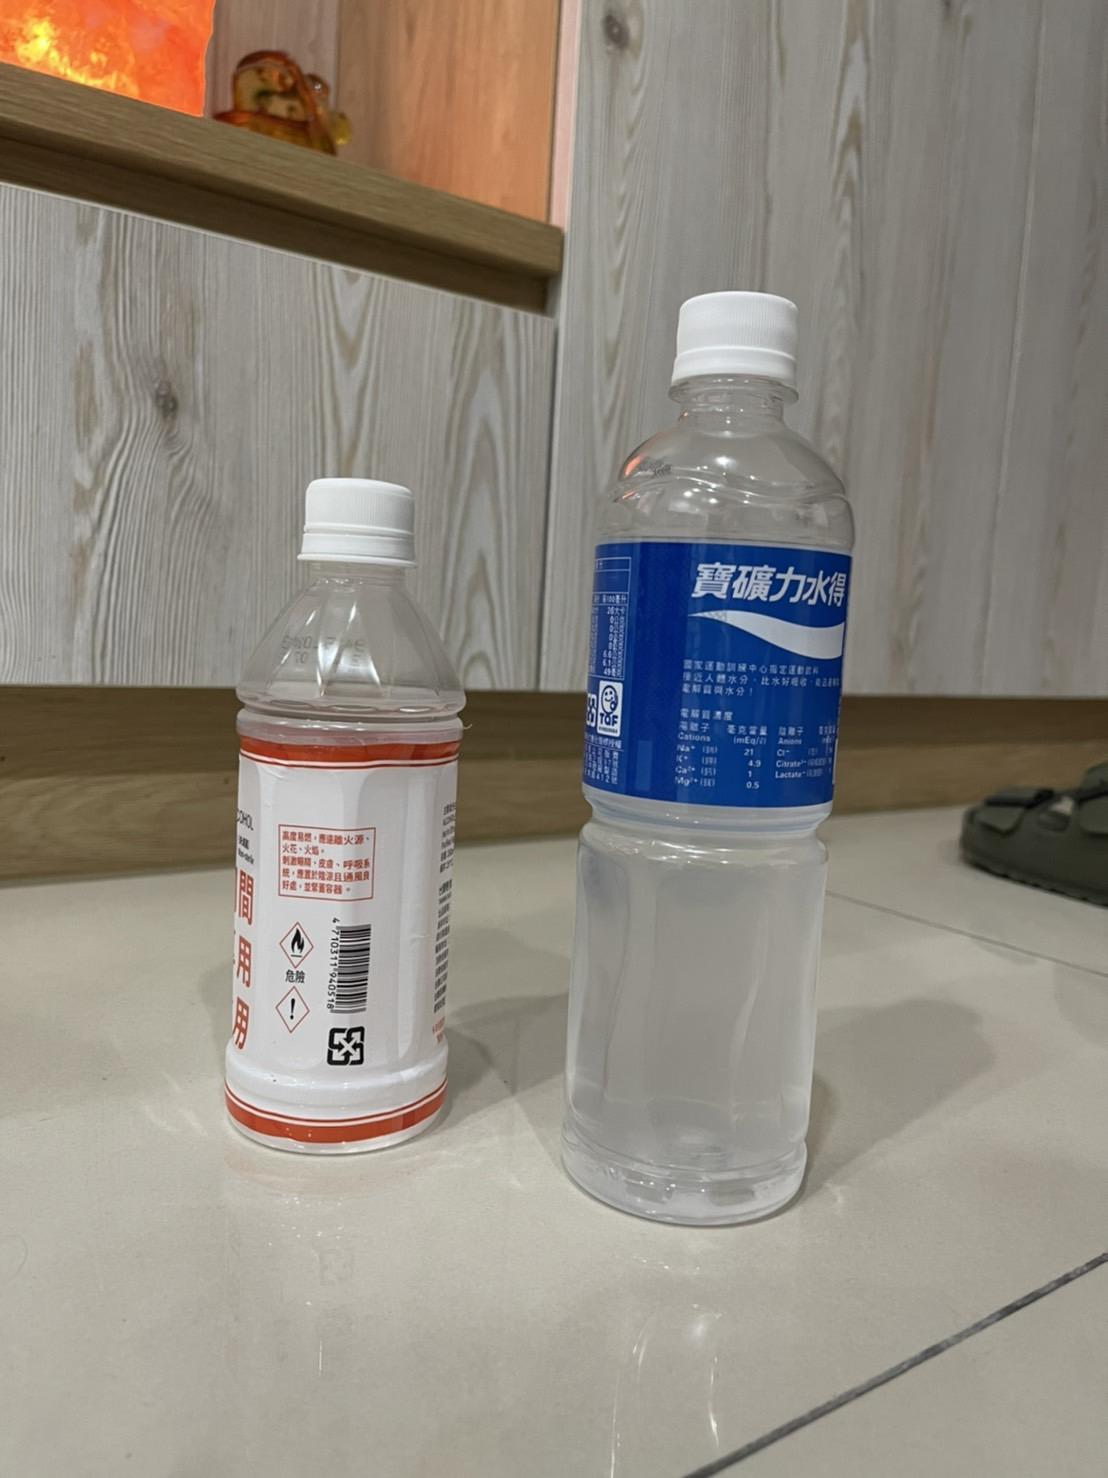bottle: (525, 0, 873, 464), (232, 0, 462, 375)
